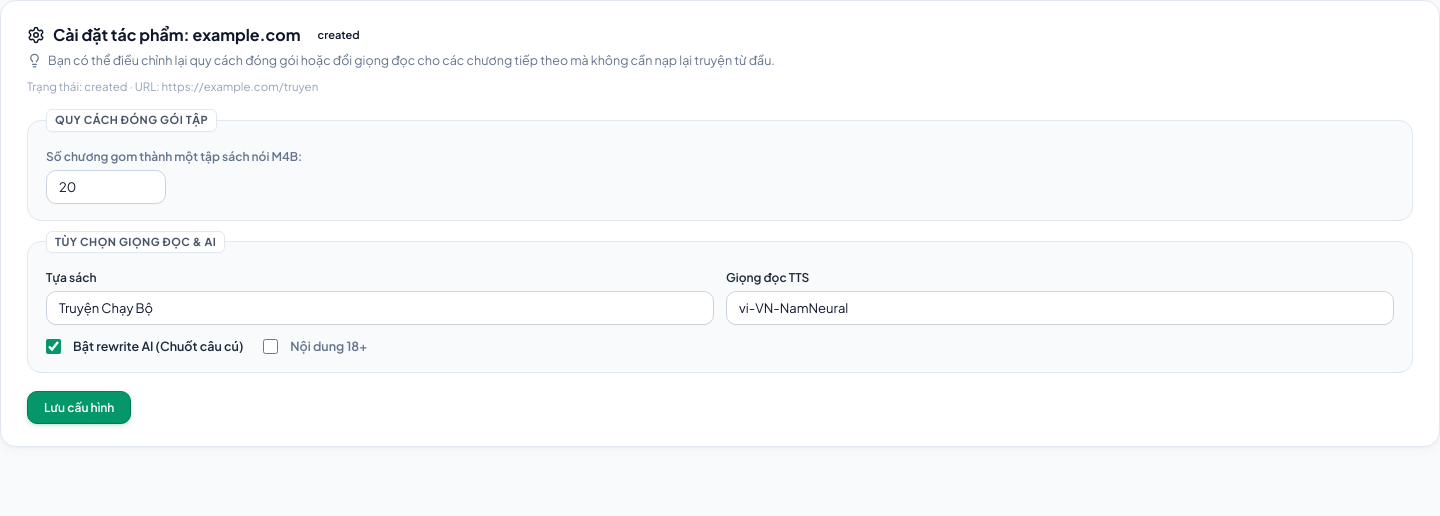
Test: JobDetail — phản ánh cấu hình ĐÃ PERSIST › PATCH lỗi 400 → alert là message của API, KHÔNG có thông báo 'Đã lưu'
Replace the text in the number field named "Chương mỗi sách (đã lưu)" with "2": (106, 186) [46,170,166,204]
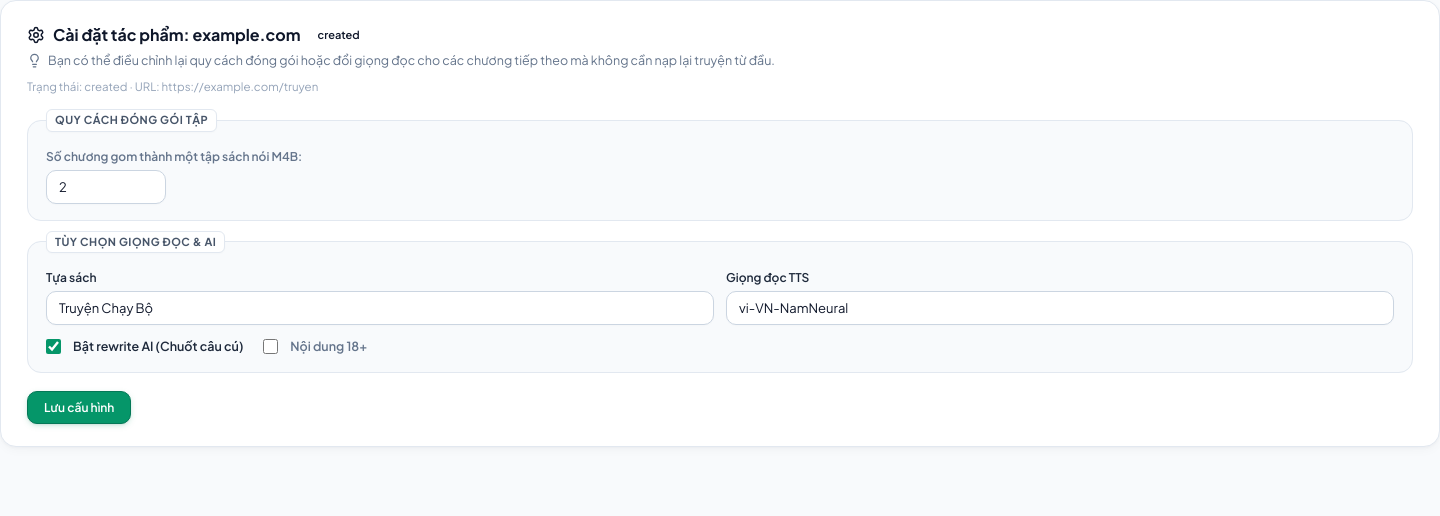
Click the button "Lưu cấu hình": (79, 407) [27,391,131,424]
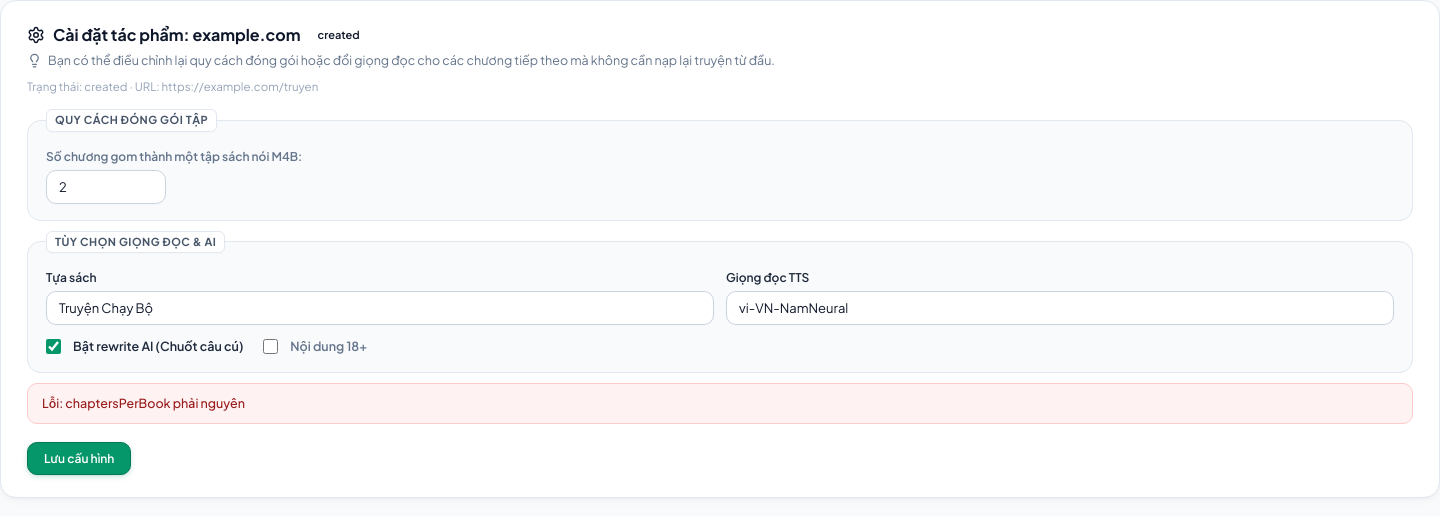
Check: the message shows "phải nguyên", box [65,395,245,411]
